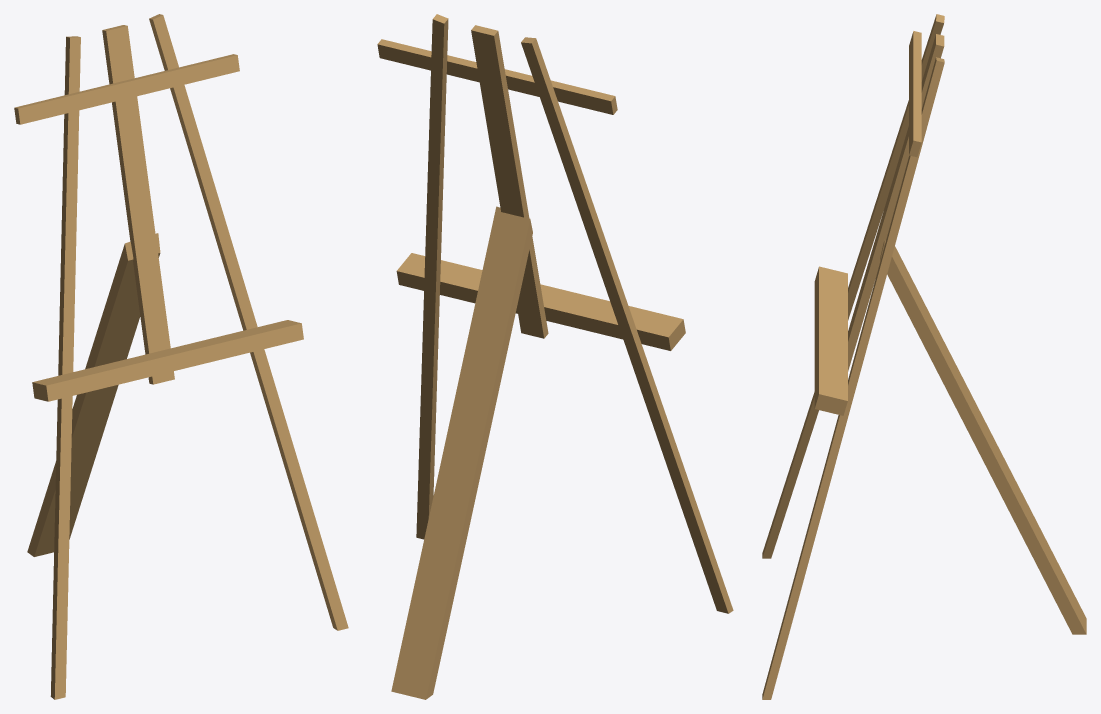
File: paintingTripod.obj
The picture shows the model from 3 angles, left to right: view 1: azimuth 30°, elevation 25°; view 2: azimuth 150°, elevation 25°; view 3: azimuth 270°, elevation 25°; orthographic projection. The views are drawn at different scales.
Visible parts, largest first — view 1: paintingTripod_Cube.001; view 2: paintingTripod_Cube.001; view 3: paintingTripod_Cube.001.
Part boxes in pixels (bbox=[...]): paintingTripod_Cube.001: bbox=[14, 14, 348, 699]; paintingTripod_Cube.001: bbox=[377, 14, 733, 699]; paintingTripod_Cube.001: bbox=[762, 14, 1086, 699].
Bounding box in the file's own units: 0.8169 × 1.53 × 0.7619.
